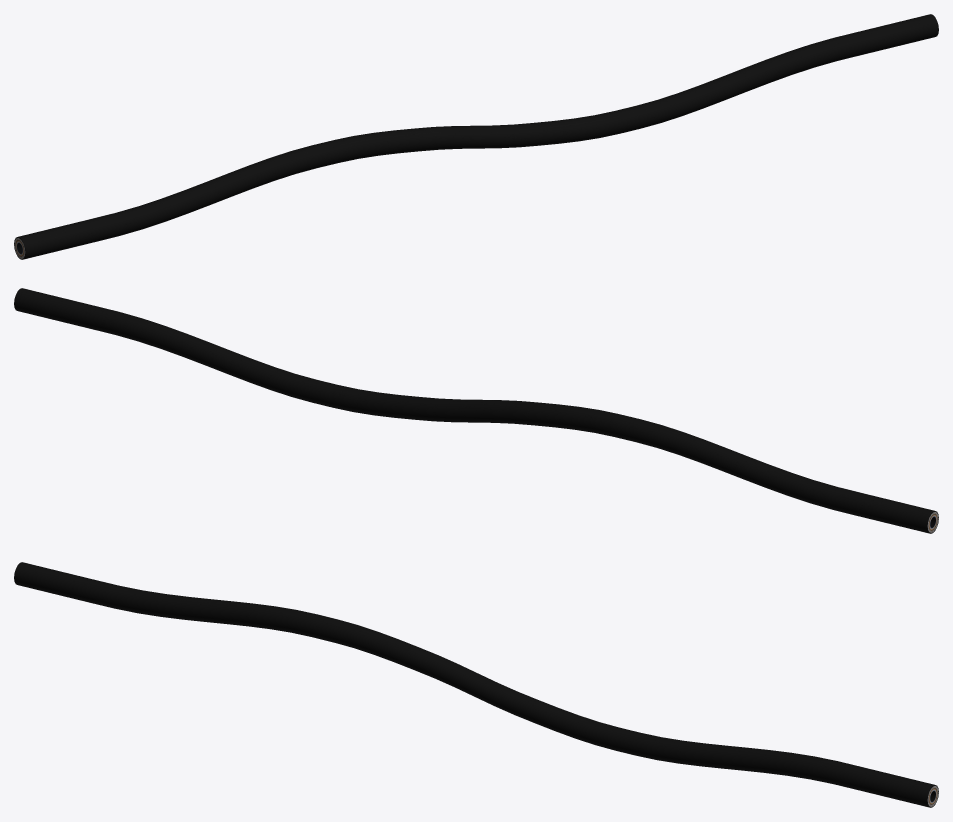
The model's file is SB_SS_PVC-03_V1.1.glb.
3 renders of one model, top to bottom at view 1: azimuth 30°, elevation 25°; view 2: azimuth 150°, elevation 25°; view 3: azimuth 330°, elevation 25°, orthographic.
Visible parts, largest first — view 1: SB_SS/PVC_Cut-03, SB_SS/PVC_Mid-03; view 2: SB_SS/PVC_Cut-03, SB_SS/PVC_Mid-03; view 3: SB_SS/PVC_Cut-03, SB_SS/PVC_Mid-03.
Part boxes in pixels (x1,y1,x2,y2): SB_SS/PVC_Cut-03: (14,14,938,259); SB_SS/PVC_Mid-03: (335,111,622,162); SB_SS/PVC_Cut-03: (14,288,938,533); SB_SS/PVC_Mid-03: (330,385,617,436); SB_SS/PVC_Cut-03: (14,562,938,807); SB_SS/PVC_Mid-03: (329,620,618,749).
Size of the model in its own units: 0.3074 by 0.0196 by 0.00686.
3 materials, 3 textured.
